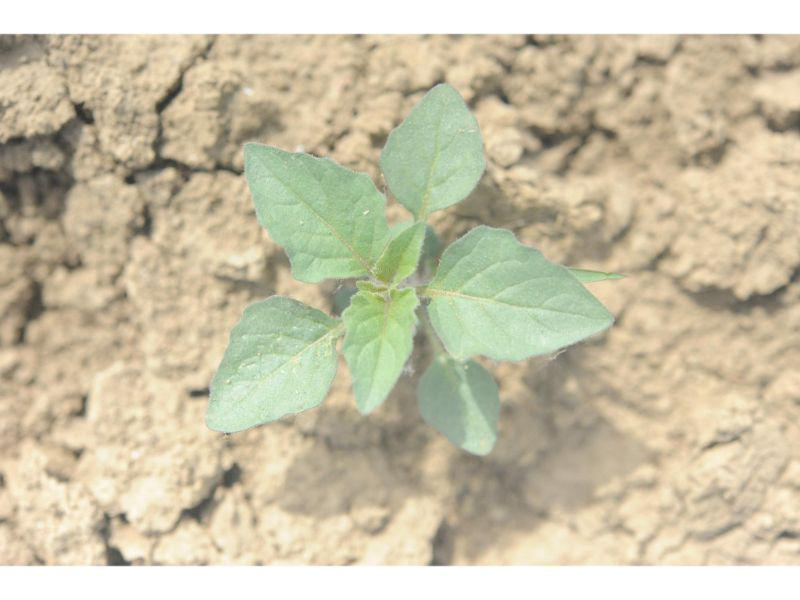nightshade: (208, 80, 615, 456)
